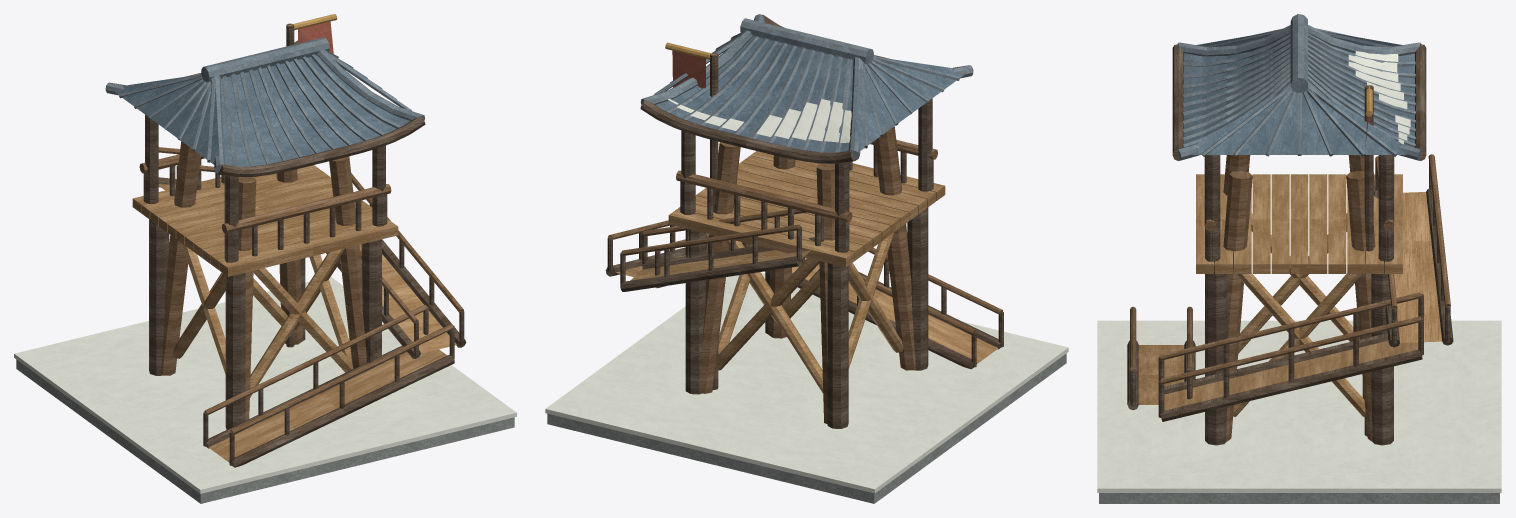
File: BLD_WATCH.glb
The picture shows the model from 3 angles, left to right: view 1: azimuth 30°, elevation 25°; view 2: azimuth 150°, elevation 25°; view 3: azimuth 270°, elevation 25°; orthographic projection. The views are drawn at different scales.
Parts seen in each view (by area): view 1: BLD_WATCH; view 2: BLD_WATCH; view 3: BLD_WATCH.
Boxes of the visible parts, x1,y1,x2,y2 form: BLD_WATCH: (14, 14, 516, 503); BLD_WATCH: (545, 14, 1068, 503); BLD_WATCH: (1097, 14, 1501, 503).
Bounding box in the file's own units: 4.89 × 5.1 × 4.98.
9 materials, 9 textured.
